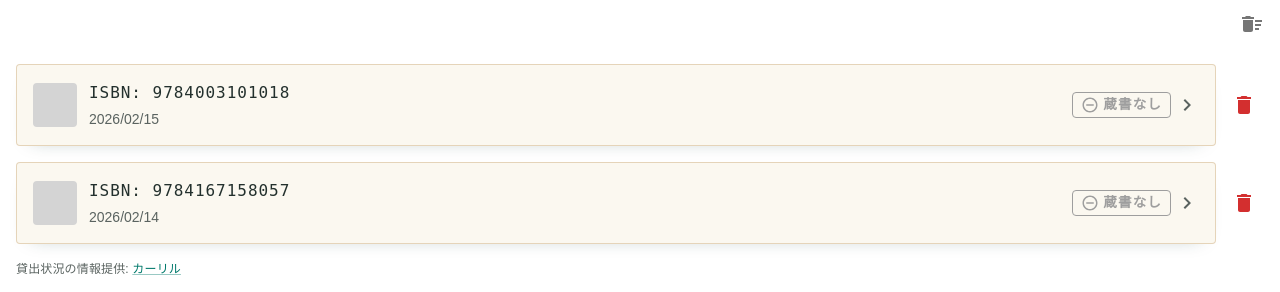
Scenario: SearchHistoryPage › delete button removes individual entry
Expected: the text "ISBN: 9784003101018" is shown, [89,83,290,102]
Entries are sorted by searchedAt desc, so 9784003101018 is first.
Step 1. Click the 1st button named "削除" → {"x": 1244, "y": 105}, box [1224,60,1264,150]
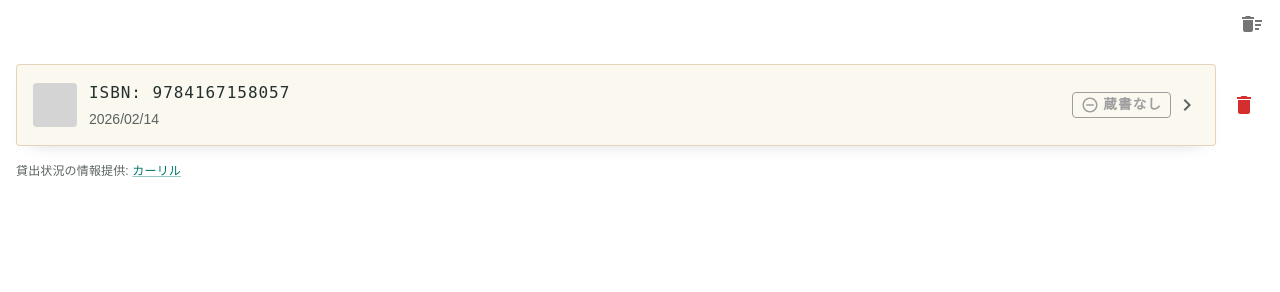
Expected: the text "ISBN: 9784167158057" is shown, [89,83,290,102]
Expected: the button "9784003101018" is gone
